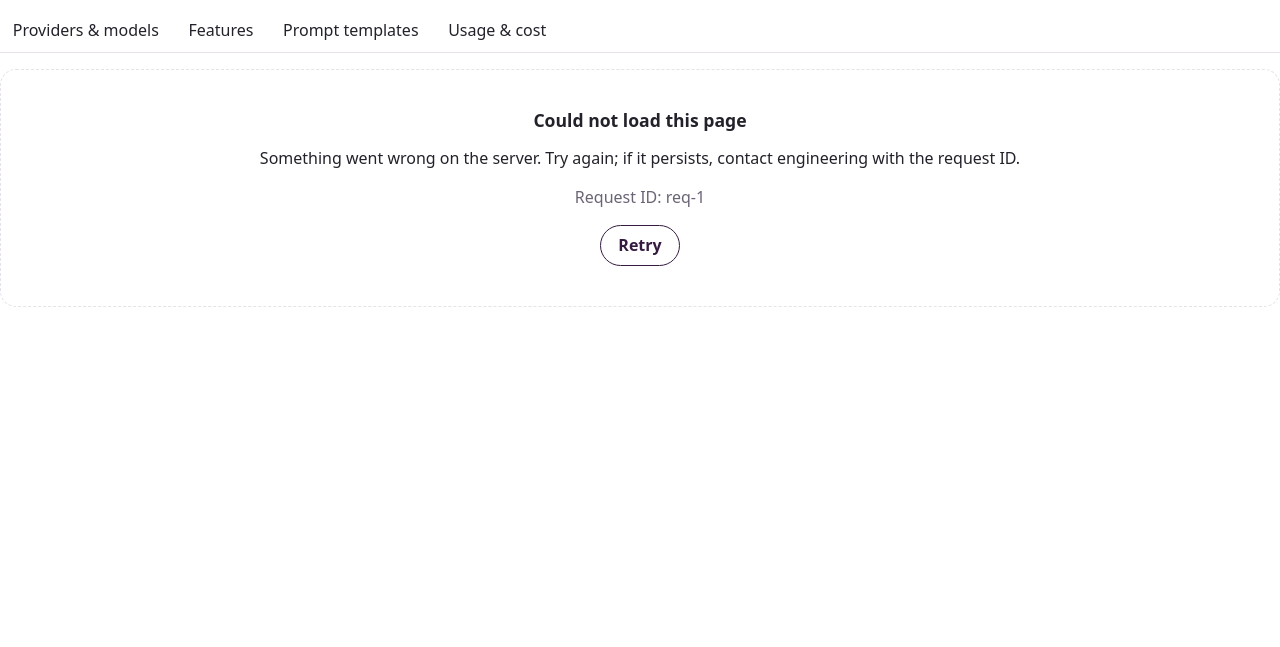
FeaturesPage › shows an error with retry
Expected: the heading "Could not load this page" is shown, [533,108,747,132]
Click the button "Retry": click(640, 246) [600,225,680,266]
(page scrolled)
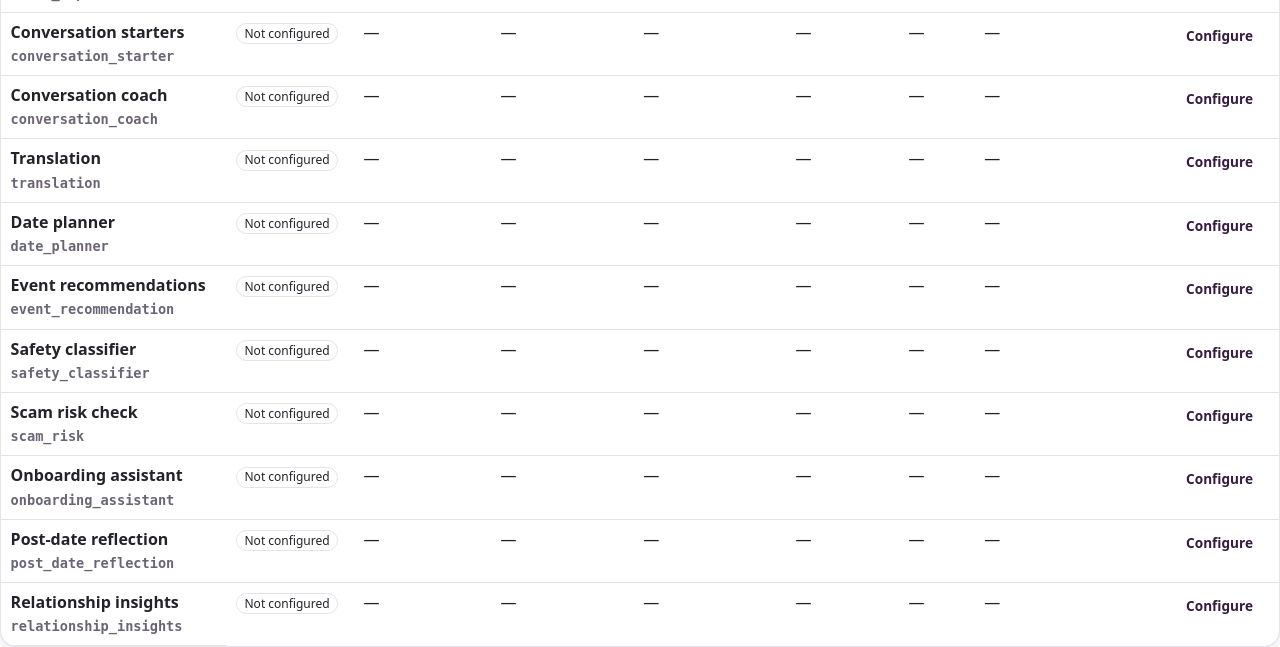
Now the column heading "Scam risk check" is shown, box [11,401,138,423]
